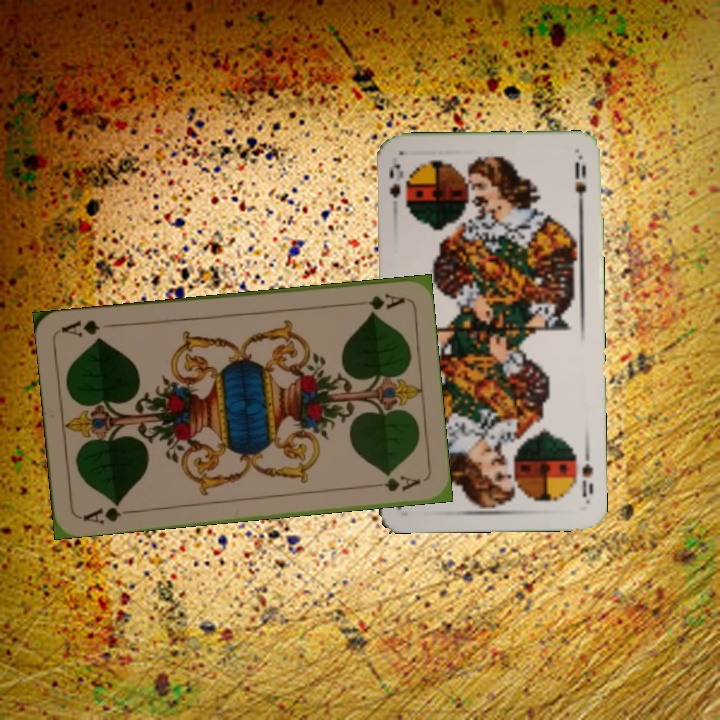GA: (79, 497, 136, 527), (348, 289, 407, 313)
SO: (578, 445, 596, 504), (385, 160, 407, 201)
